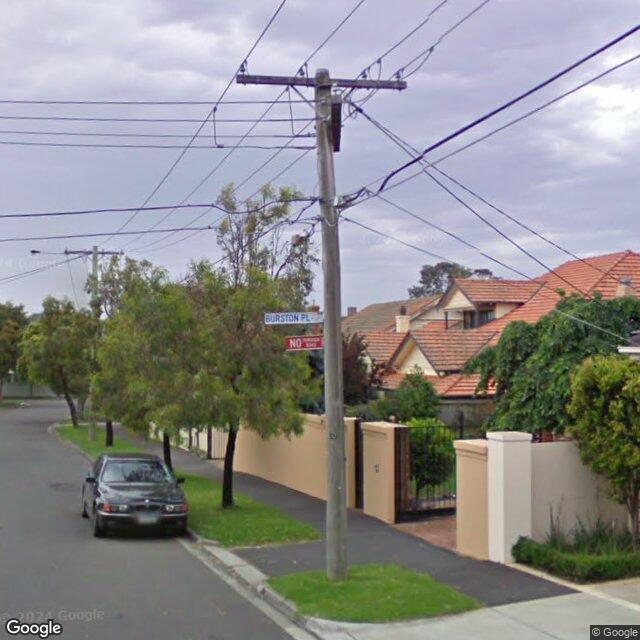crossarm: (235, 60, 408, 92), (292, 91, 344, 153), (64, 248, 125, 256)
streetlight: (30, 249, 64, 256)
timber-pole: (315, 68, 349, 582), (88, 246, 99, 440)
